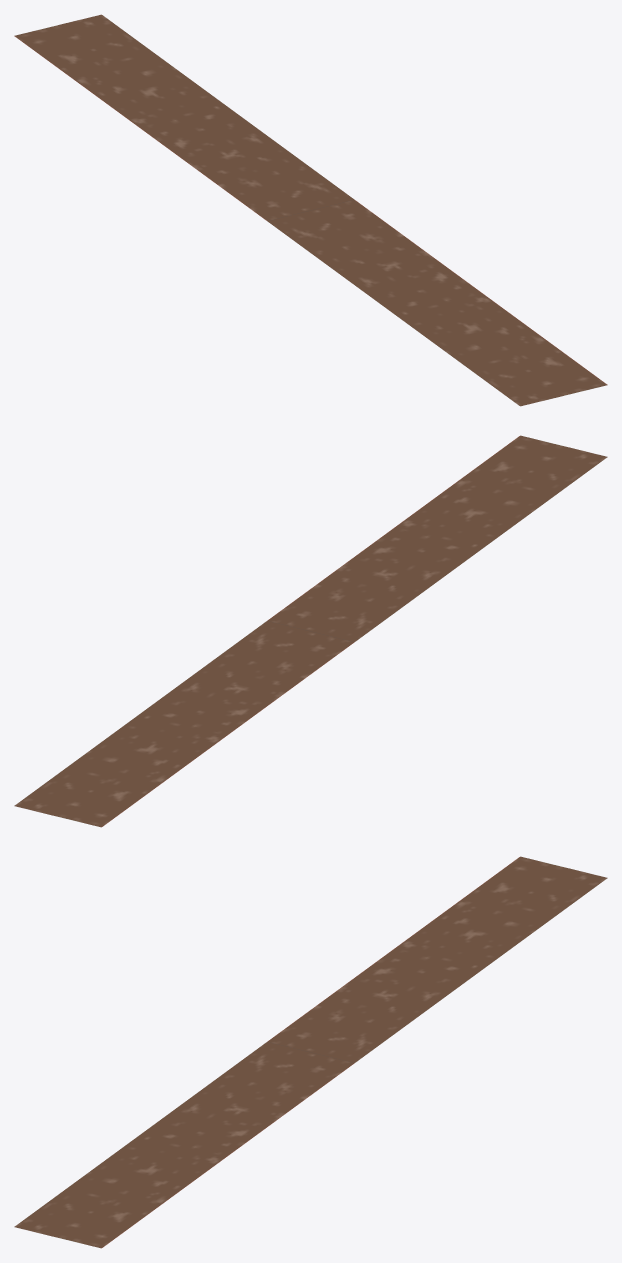
The model's file is SW_ENV_Floor_A_0-5x5m.fbx.
3 views of the same model, one above another, from view 1: azimuth 30°, elevation 25°; view 2: azimuth 150°, elevation 25°; view 3: azimuth 330°, elevation 25° (orthographic).
Parts seen in each view (by area): view 1: SW_ENV_Floor_A_0-5x5m; view 2: SW_ENV_Floor_A_0-5x5m; view 3: SW_ENV_Floor_A_0-5x5m.
Boxes of the visible parts, bbox=[...] form: SW_ENV_Floor_A_0-5x5m: bbox=[14, 14, 607, 406]; SW_ENV_Floor_A_0-5x5m: bbox=[14, 435, 607, 827]; SW_ENV_Floor_A_0-5x5m: bbox=[14, 856, 607, 1248].
Size of the model in its own units: 50 by 0.0001 by 500.
